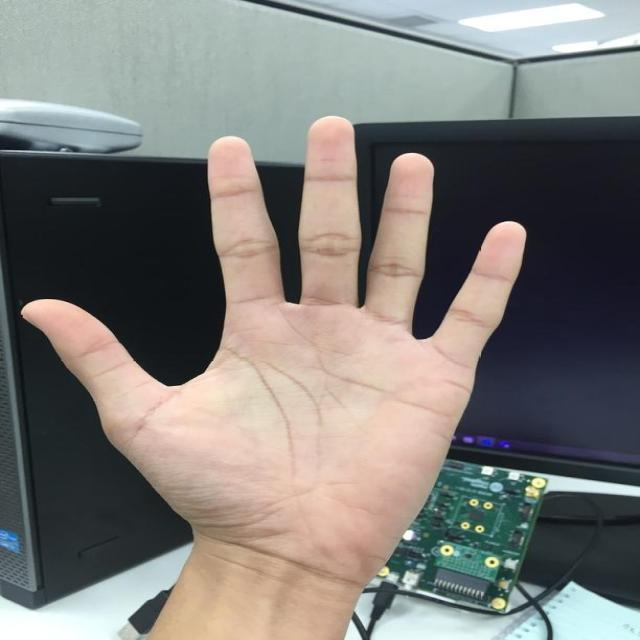Hand: (11, 112, 536, 632)
